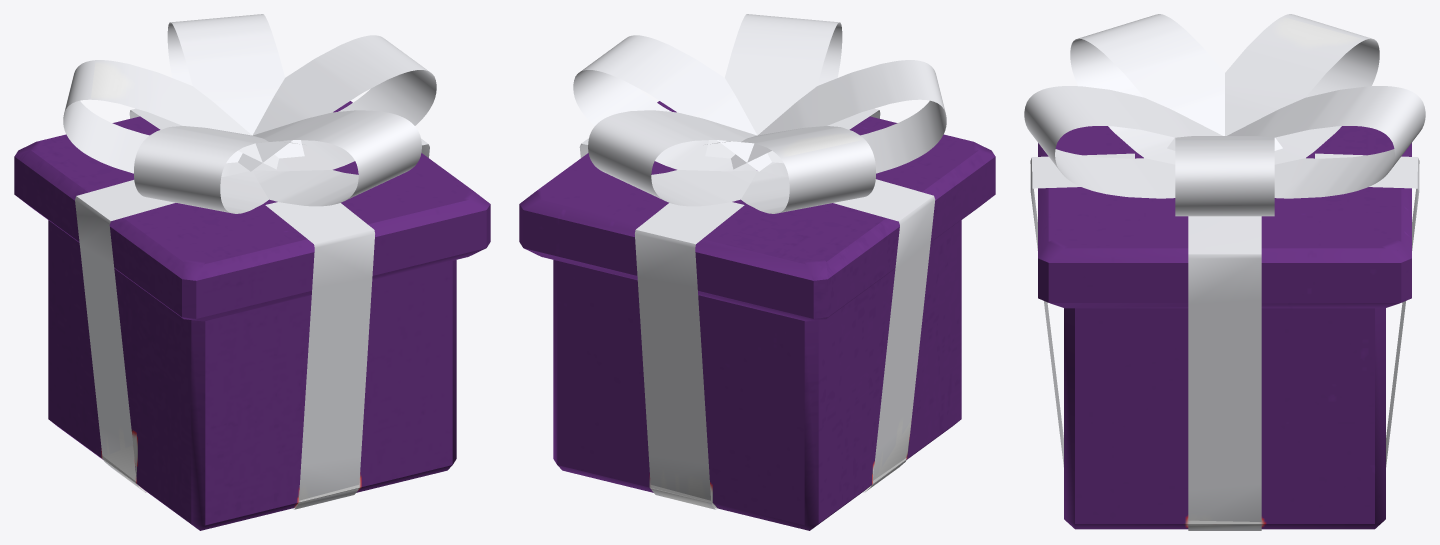
The model's file is violetPresent.gltf.
3 renders of one model, left to right at view 1: azimuth 30°, elevation 25°; view 2: azimuth 150°, elevation 25°; view 3: azimuth 270°, elevation 25°, orthographic. The views are drawn at different scales.
Parts seen in each view (by area): view 1: Polygon_Reduction; view 2: Polygon_Reduction; view 3: Polygon_Reduction.
Boxes of the visible parts, box(x1,y1,x2,y2) form: Polygon_Reduction: box(14, 14, 490, 530); Polygon_Reduction: box(519, 14, 995, 530); Polygon_Reduction: box(1024, 14, 1425, 530).
Bounding box in the file's own units: 1.31 × 1.42 × 1.35.
1 material, 1 textured.
